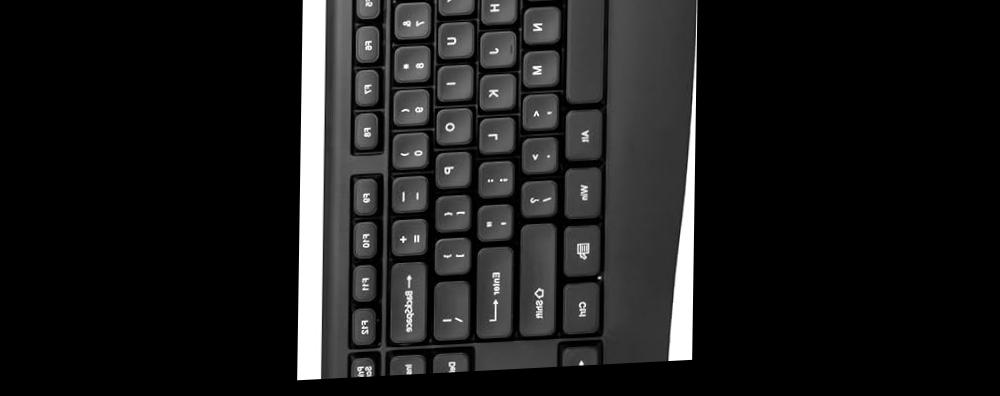keyboard: (309, 0, 698, 380)
